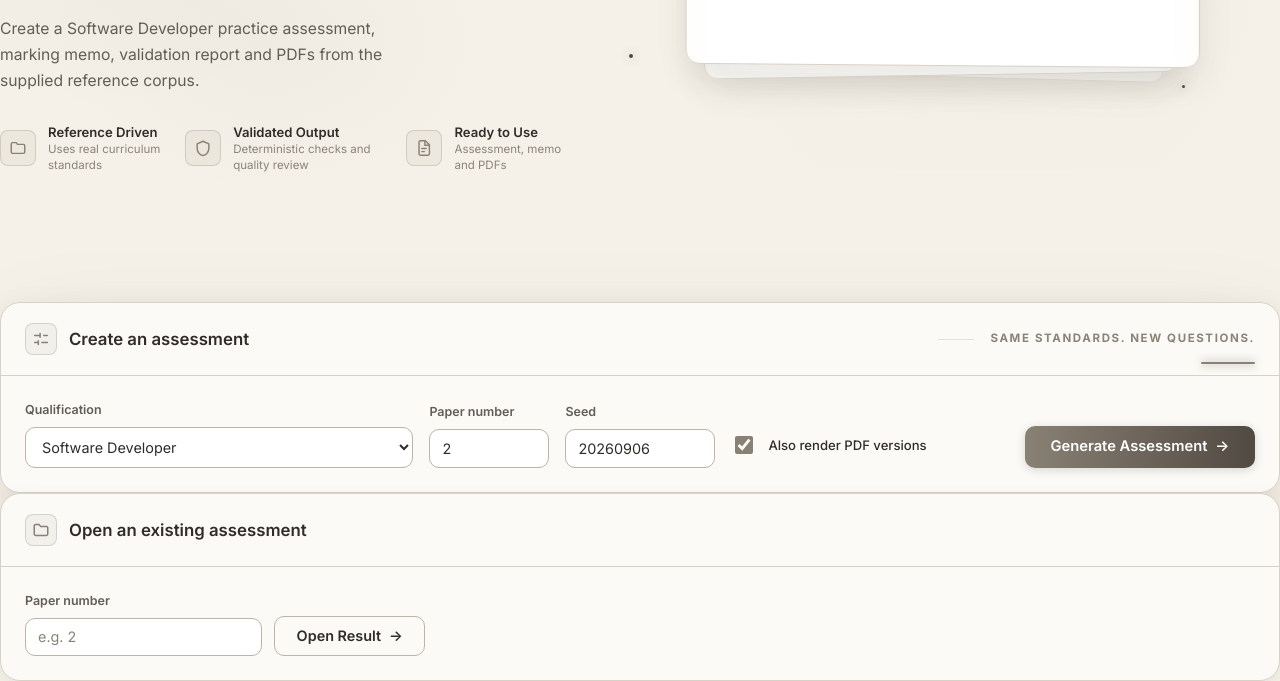
Test: Dashboard › shows a network-failure message when the API cannot be reached at all
The image size is (1280, 681).
(page scrolled)
Step 1. Click the button "Generate Assessment →" → (1140, 447), box [1025,426,1255,468]
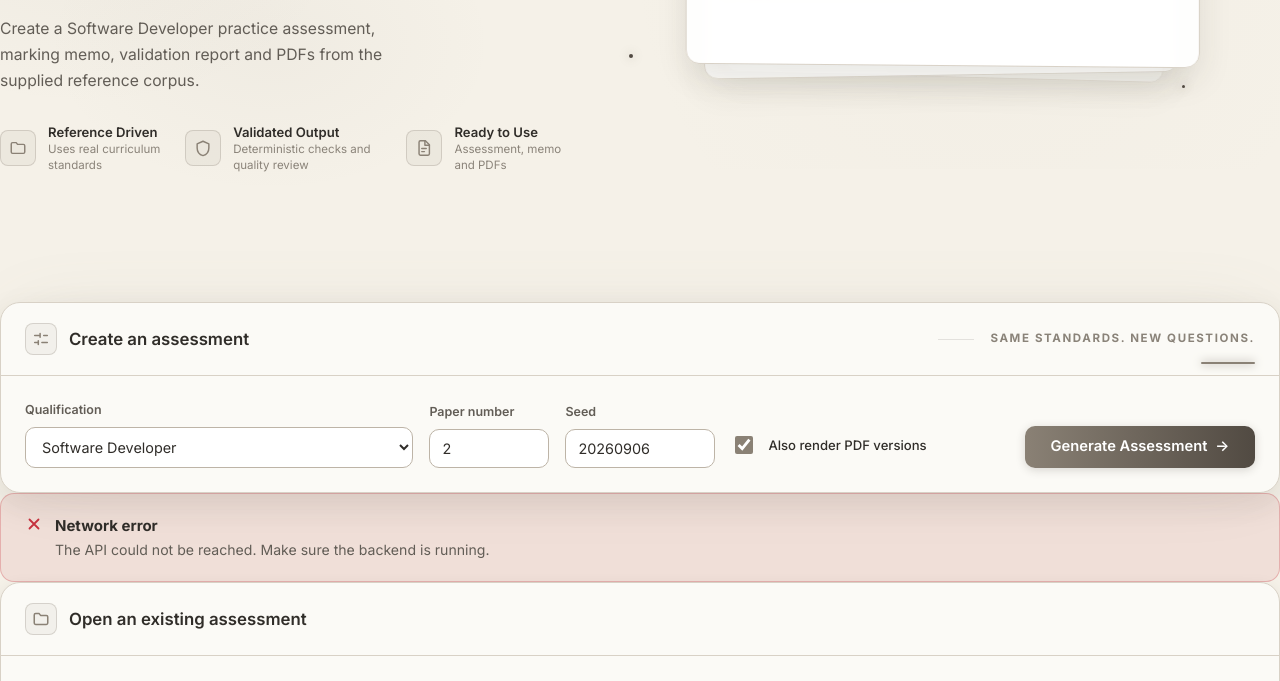
Expected: the message shows "could not be reached", [55,541,490,558]
